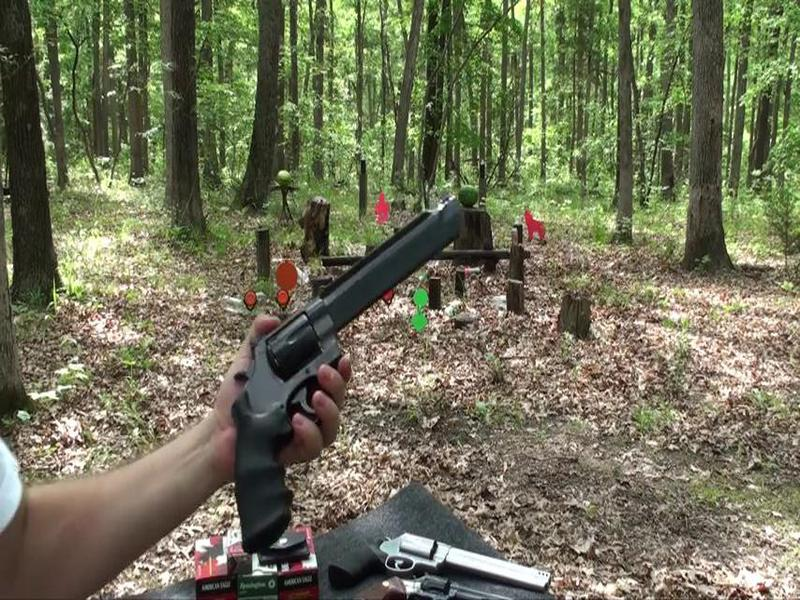Revolver: (237, 197, 465, 551)
